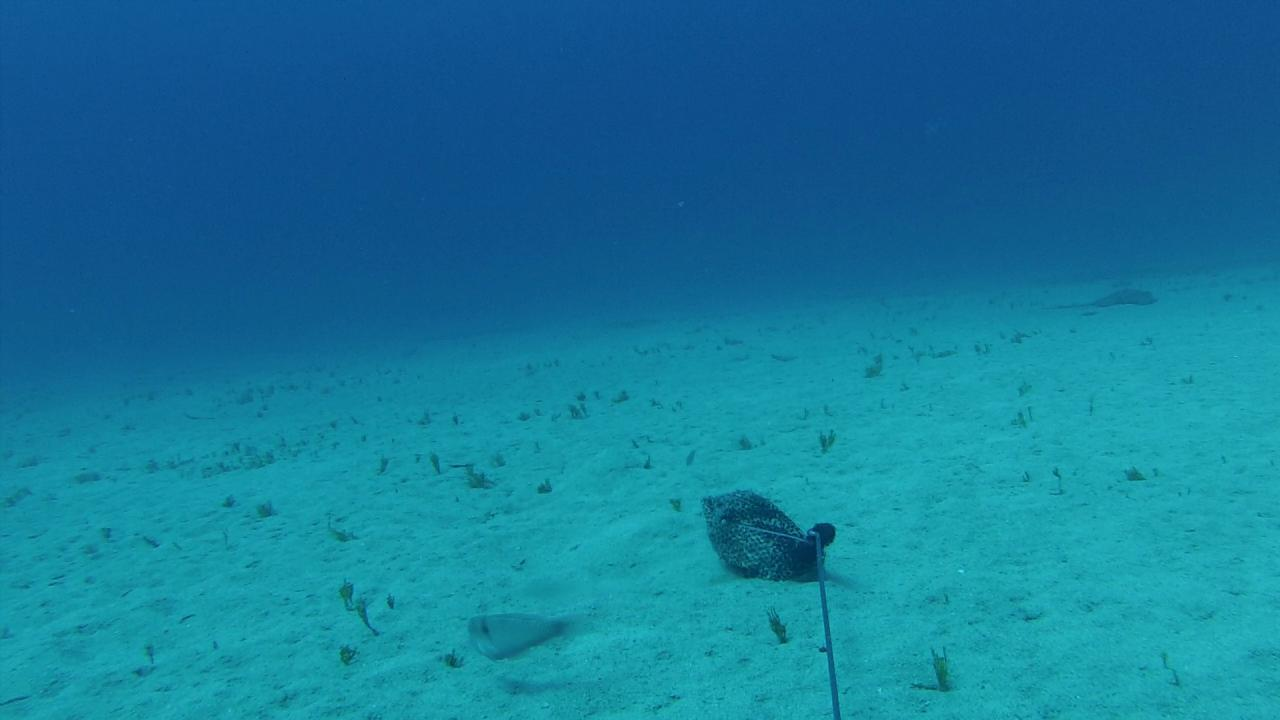dasyatis: (1047, 290, 1157, 312)
